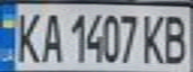0: (103, 10, 121, 63)
1: (63, 9, 84, 63)
4: (84, 9, 106, 63)
7: (118, 10, 142, 64)
A: (36, 9, 66, 63)
B: (160, 10, 193, 65)
K: (9, 8, 45, 64), (139, 10, 169, 65)
